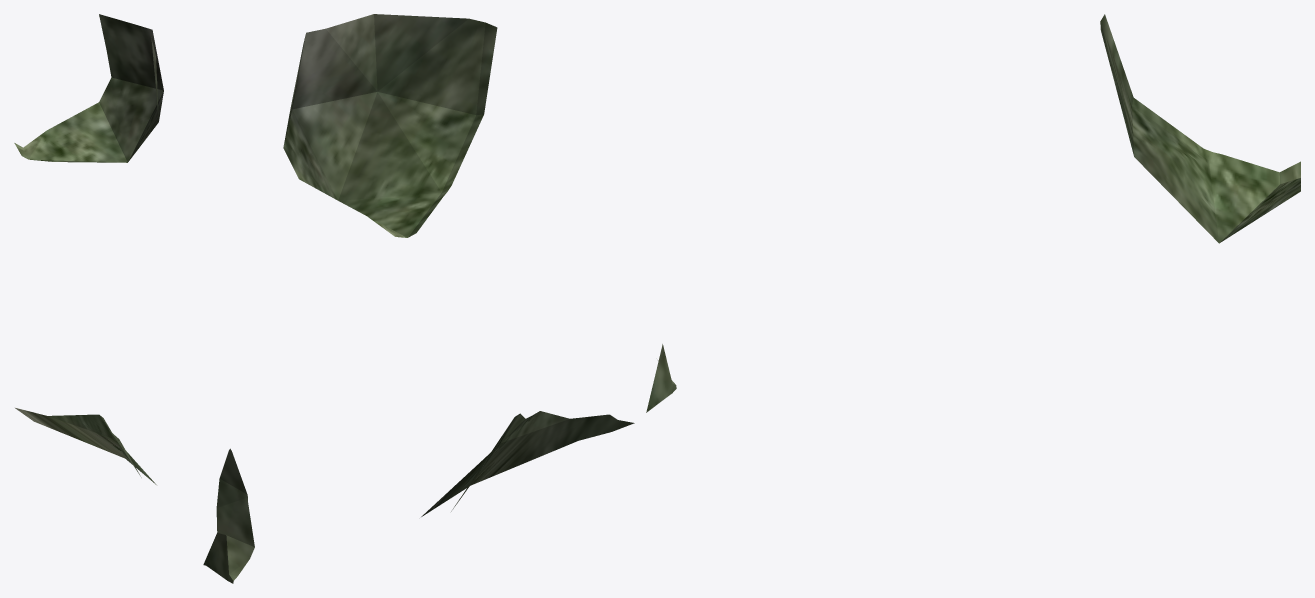
3 views of the same model, side by side, from view 1: azimuth 30°, elevation 25°; view 2: azimuth 150°, elevation 25°; view 3: azimuth 270°, elevation 25° (orthographic). The views are drawn at different scales.
Bounding box in the file's own units: 0.9466 × 2.95 × 2.95.
Materials: 1 (1 with a texture image).
